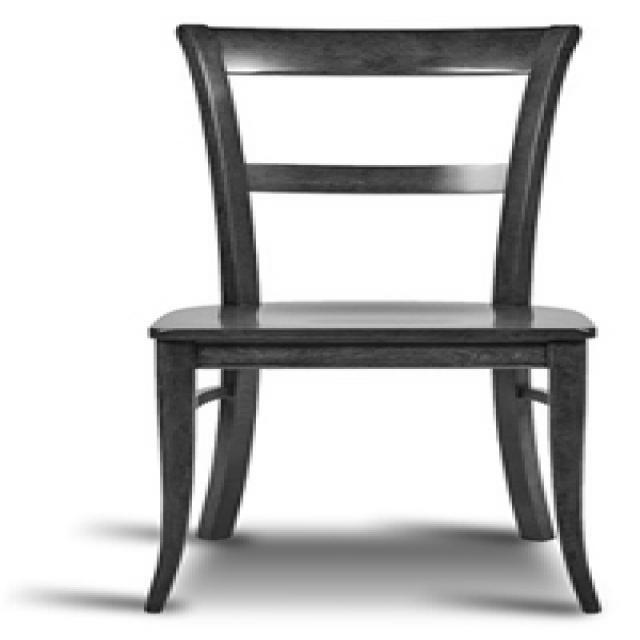chair: (134, 24, 604, 614)
